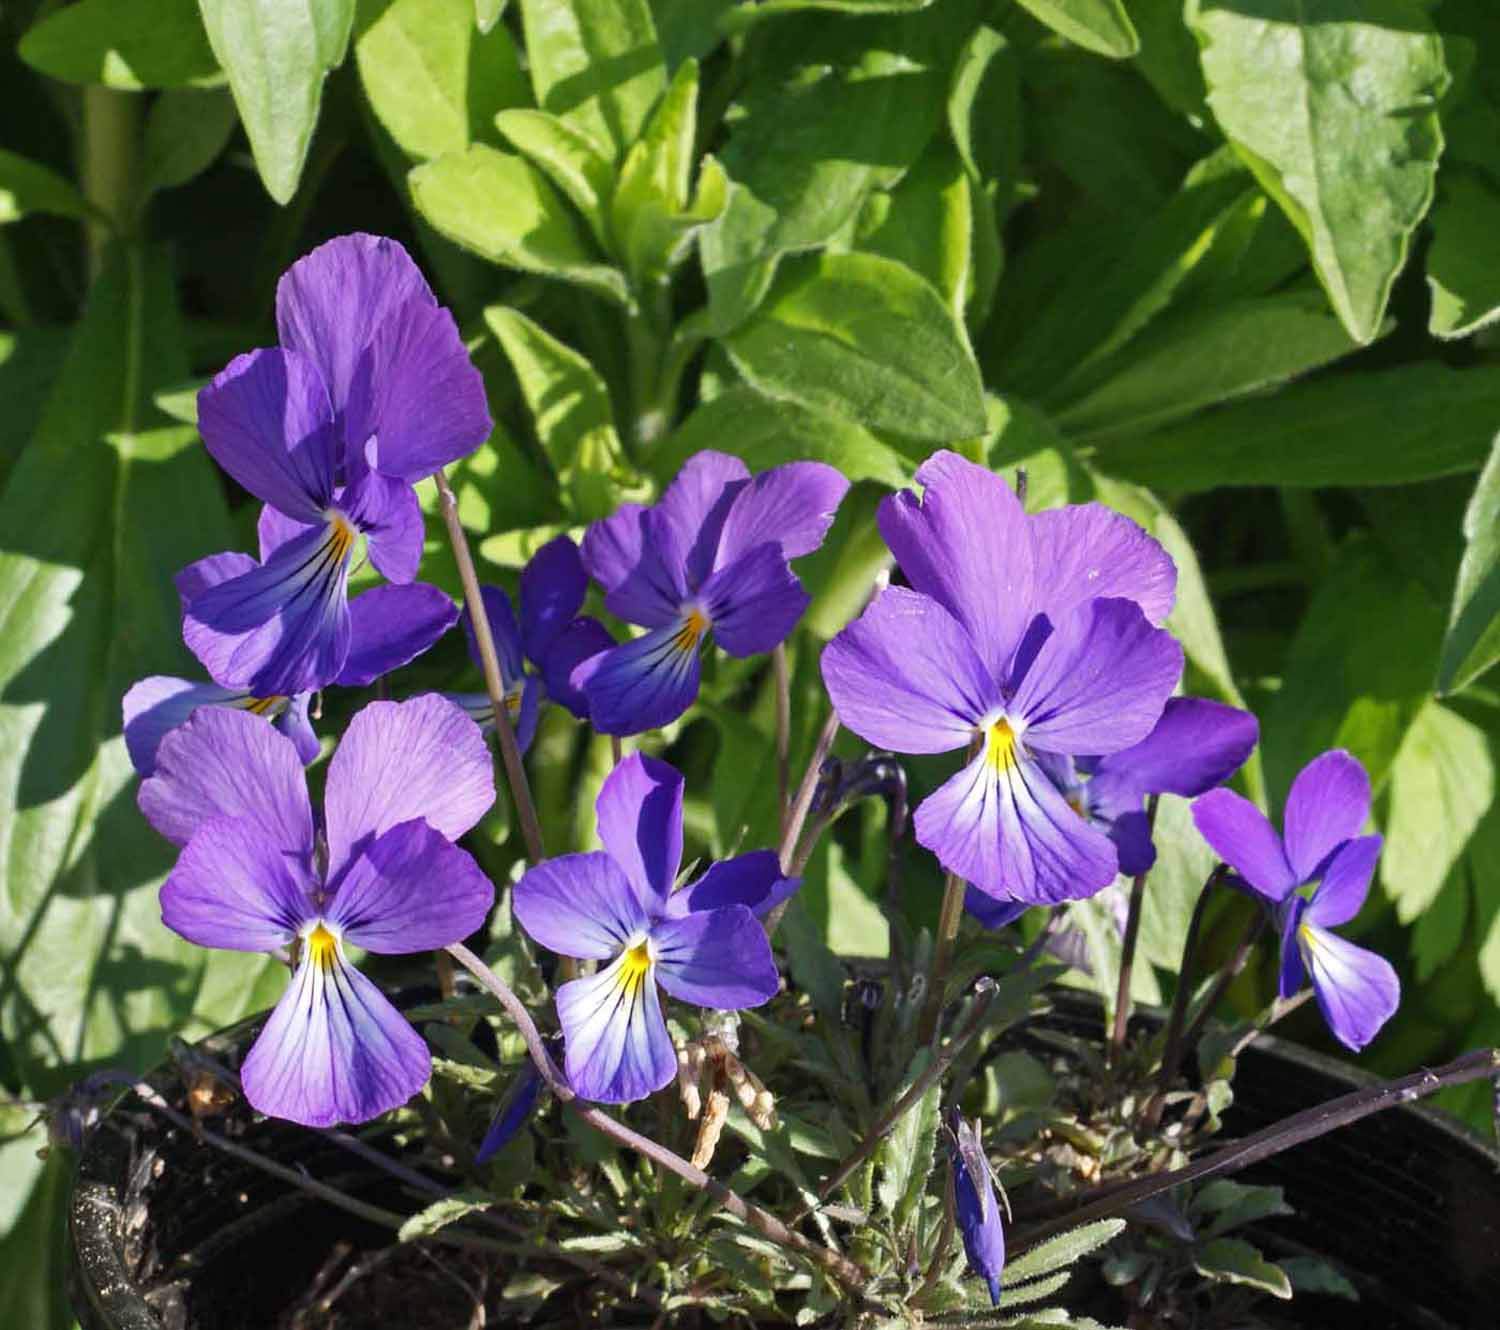violet: (154, 691, 476, 1121), (841, 496, 1160, 914), (204, 225, 536, 576), (497, 765, 810, 1116), (580, 401, 830, 718), (1185, 737, 1424, 1059)
